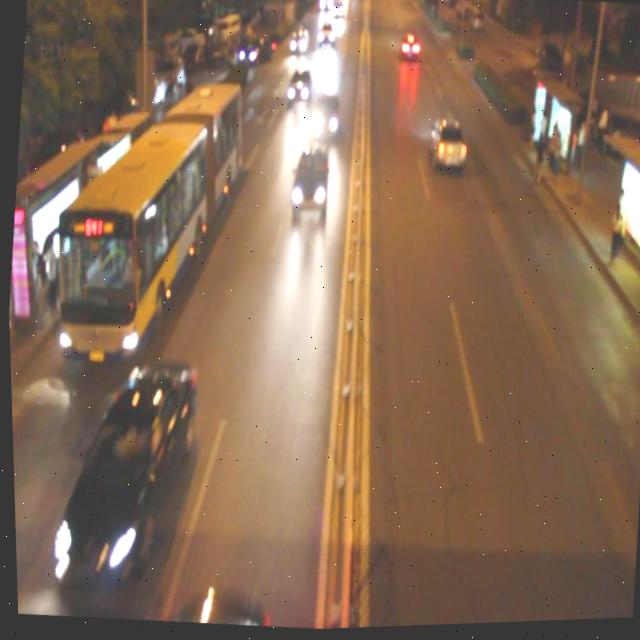car: (40, 355, 200, 610), (287, 142, 332, 216), (425, 118, 467, 175), (306, 92, 342, 149), (282, 66, 314, 111)
van: (40, 67, 242, 370)
